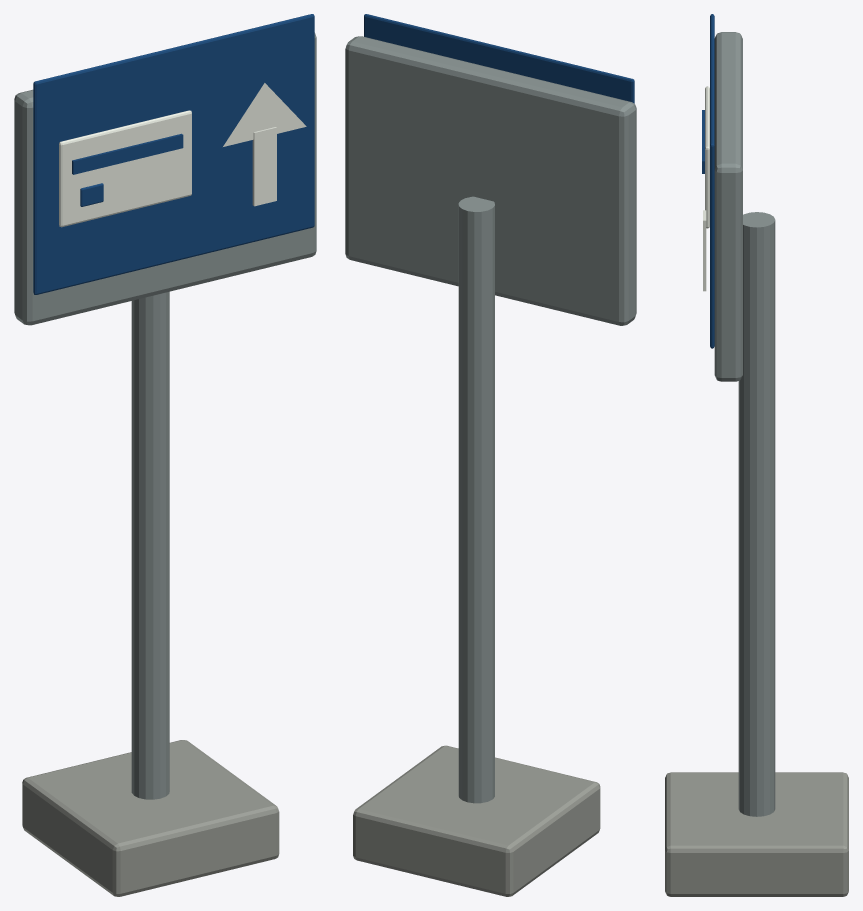
The model's file is malaysia-card-lane-sign-reopened-edit.glb.
The picture shows the model from 3 angles, left to right: view 1: azimuth 30°, elevation 25°; view 2: azimuth 150°, elevation 25°; view 3: azimuth 270°, elevation 25°; orthographic projection. The views are drawn at different scales.
Parts seen in each view (by area): view 1: PANEL_BlueFace, BASE_Footing, POST_Support, PANEL_Back, ICON_Card, ICON_Arrow_Head, ICON_Arrow_Shaft, ICON_CardStripe; view 2: PANEL_Back, BASE_Footing, POST_Support, PANEL_BlueFace; view 3: POST_Support, BASE_Footing, PANEL_Back, PANEL_BlueFace, ICON_Card.
Part boxes in pixels (x1,y1,x2,y2): PANEL_BlueFace: (33,14,314,294); BASE_Footing: (22,740,279,896); POST_Support: (131,291,169,799); PANEL_Back: (14,32,316,325); ICON_Card: (59,110,191,227); ICON_Arrow_Head: (223,83,306,146); ICON_Arrow_Shaft: (252,127,276,206); ICON_CardStripe: (72,133,183,174); PANEL_Back: (345,36,636,325); BASE_Footing: (353,745,600,896); POST_Support: (458,196,494,803); PANEL_BlueFace: (364,14,634,103); POST_Support: (738,212,775,816); BASE_Footing: (665,772,848,896); PANEL_Back: (714,32,742,381); PANEL_BlueFace: (710,14,714,348); ICON_Card: (705,86,709,228).
Size of the model in its own units: 1.15 by 3.05 by 0.65.
